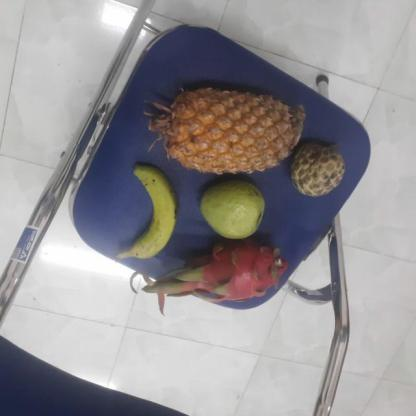annona: (286, 142, 345, 197)
banana: (123, 167, 179, 260)
guava: (197, 180, 268, 240)
pineapple: (158, 89, 302, 173)
pitaya: (180, 236, 282, 304)
